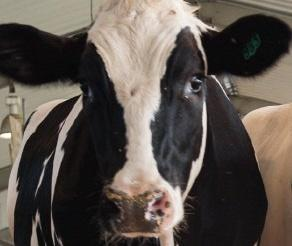muzzles: (95, 182, 192, 243)
